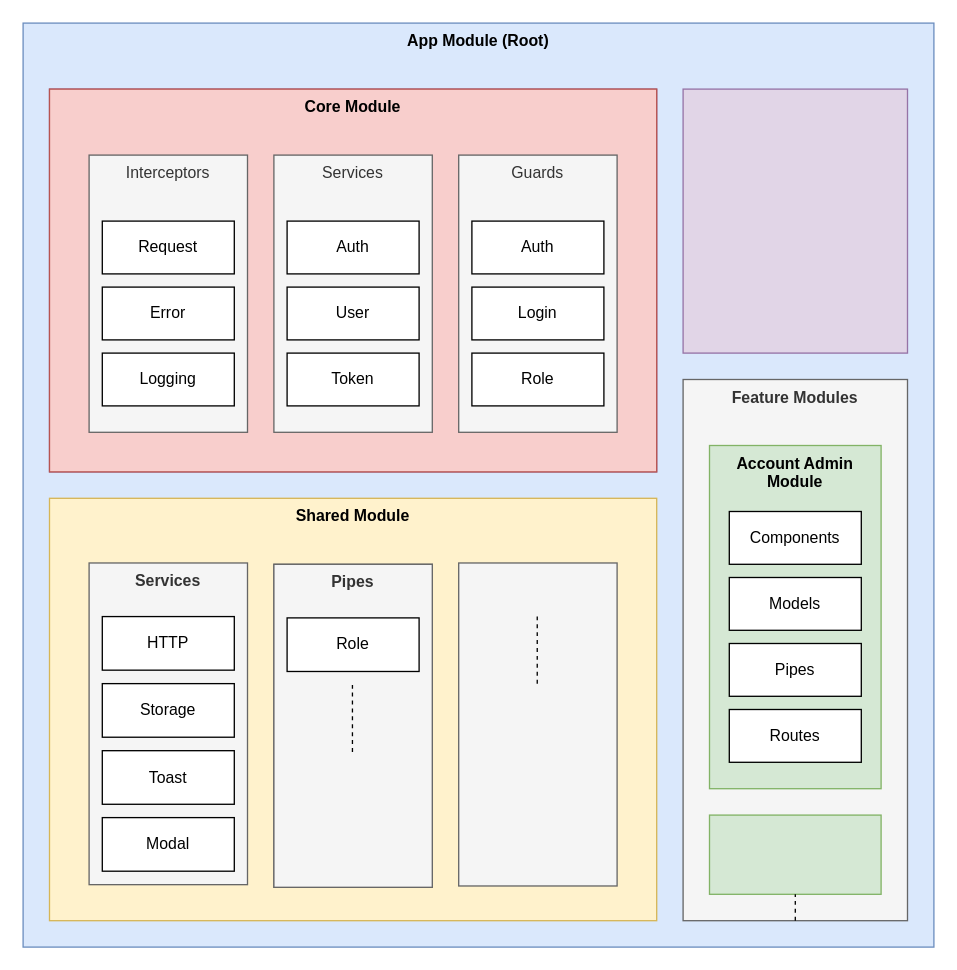
Image size: 957x970. Some labels were removed from this diagram. Here are the shapes that lost their labels. From the top down, the centre of each, then its label:
At point (795, 220): "Main Router".
At point (537, 724): "Directives".
At point (794, 854): "Subscriber Admin Module".
